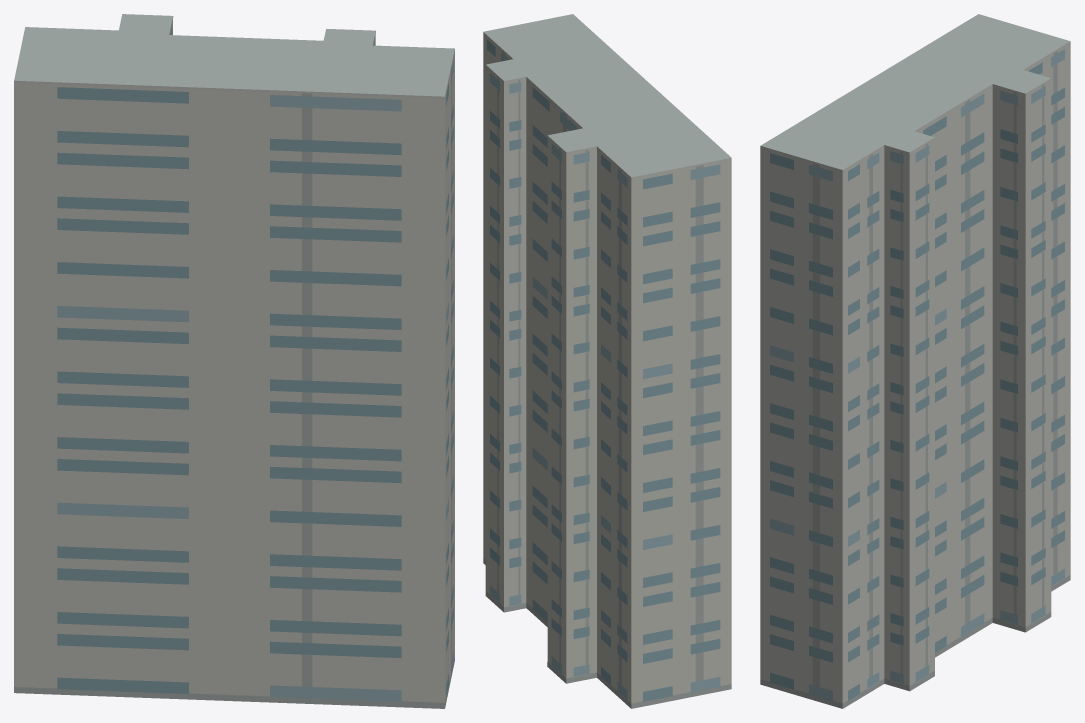
The model's file is residential-a78077e1-5bfb-4e76-94a1-29bd07868cd2.glb.
3 renders of one model, left to right at view 1: azimuth 30°, elevation 25°; view 2: azimuth 150°, elevation 25°; view 3: azimuth 270°, elevation 25°, orthographic. The views are drawn at different scales.
Visible parts, largest first — view 1: residential-a78077e1-5bfb-4e76-94a1-29bd07868cd2.tmp; view 2: residential-a78077e1-5bfb-4e76-94a1-29bd07868cd2.tmp; view 3: residential-a78077e1-5bfb-4e76-94a1-29bd07868cd2.tmp.
Part boxes in pixels (x1,y1,x2,y2): residential-a78077e1-5bfb-4e76-94a1-29bd07868cd2.tmp: (14, 14, 454, 708); residential-a78077e1-5bfb-4e76-94a1-29bd07868cd2.tmp: (483, 14, 731, 708); residential-a78077e1-5bfb-4e76-94a1-29bd07868cd2.tmp: (760, 14, 1070, 708).
Bounding box in the file's own units: 48.48 × 78 × 40.71.
